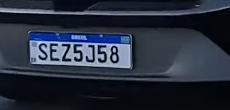Placa_mercosul_carro: (28, 31, 134, 67)
